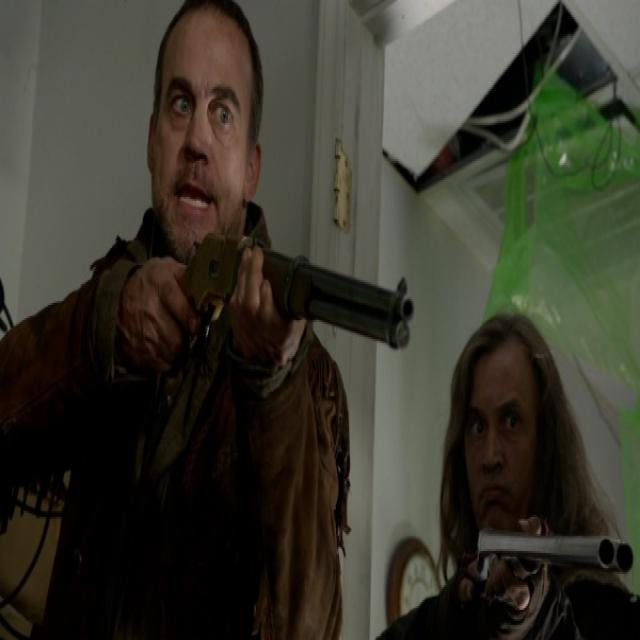rifle: (185, 225, 422, 366)
